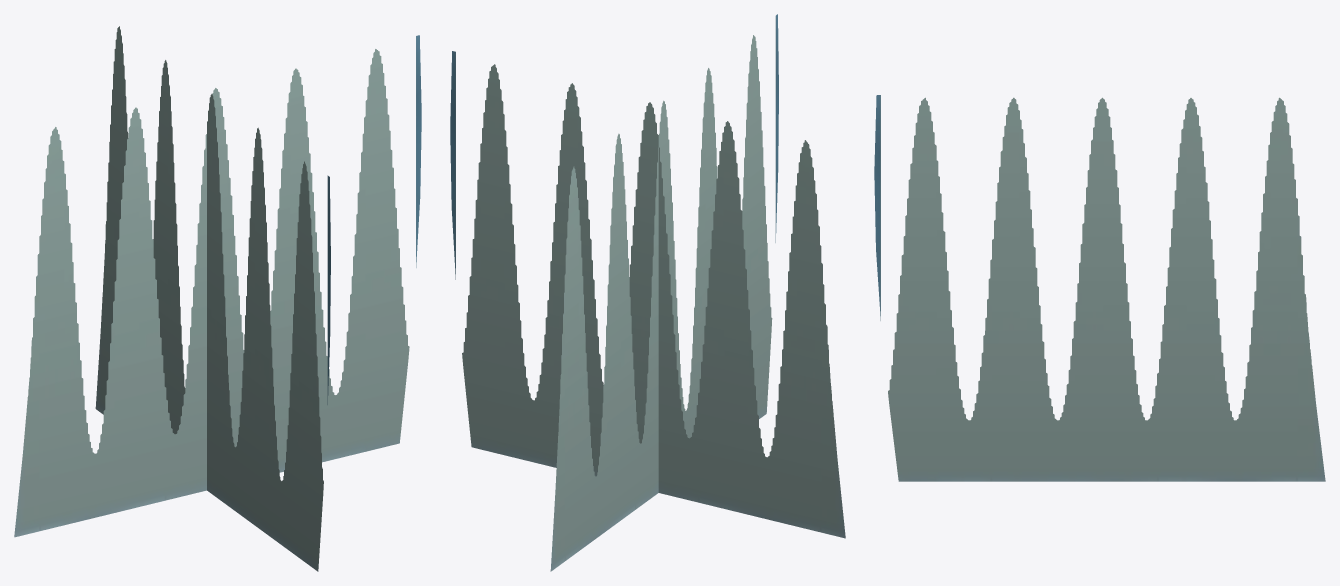
The model's file is grass_tuft_a.glb.
3 renders of one model, left to right at view 1: azimuth 30°, elevation 25°; view 2: azimuth 150°, elevation 25°; view 3: azimuth 270°, elevation 25°, orthographic. The views are drawn at different scales.
Parts seen in each view (by area): view 1: lod0; view 2: lod0; view 3: lod0.
Part boxes in pixels (box(x1,y1,x2,y2)): lod0: box(14, 26, 421, 571); lod0: box(450, 14, 845, 571); lod0: box(874, 95, 1325, 481).
Bounding box in the file's own units: 0.74 × 0.7 × 0.74.
Materials: 1 (1 with a texture image).
